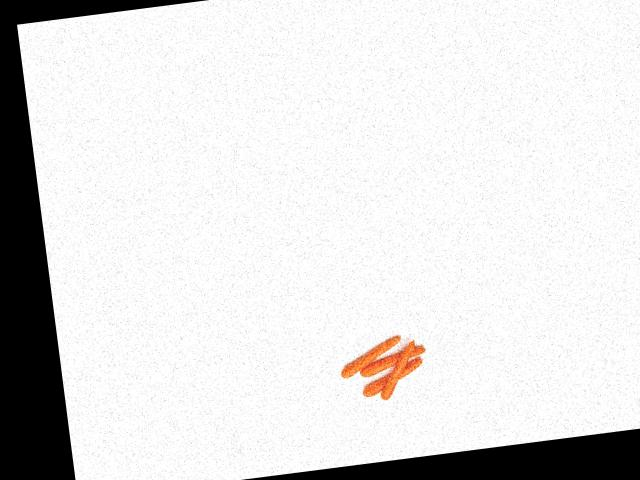carrot: (355, 358, 426, 400)
